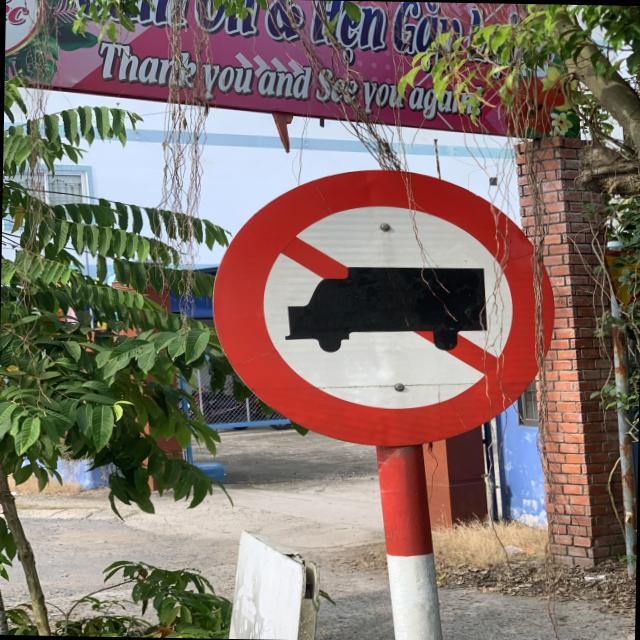Cam_Xe_Tai: (213, 167, 562, 454)
